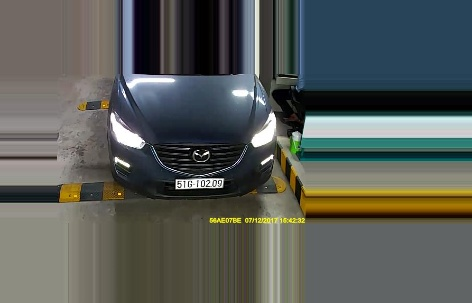plate: (173, 176, 227, 192)
